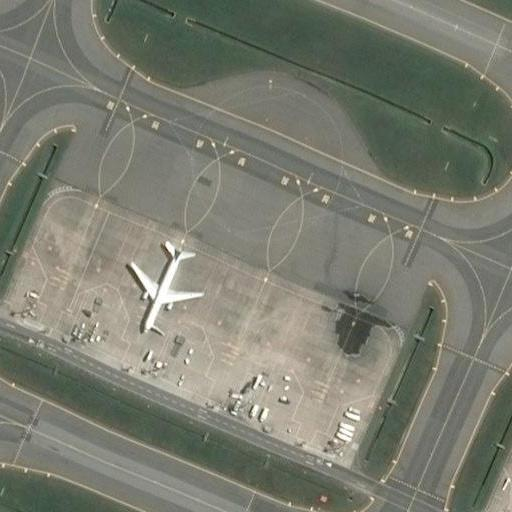Aircraft: (122, 233, 204, 331)
